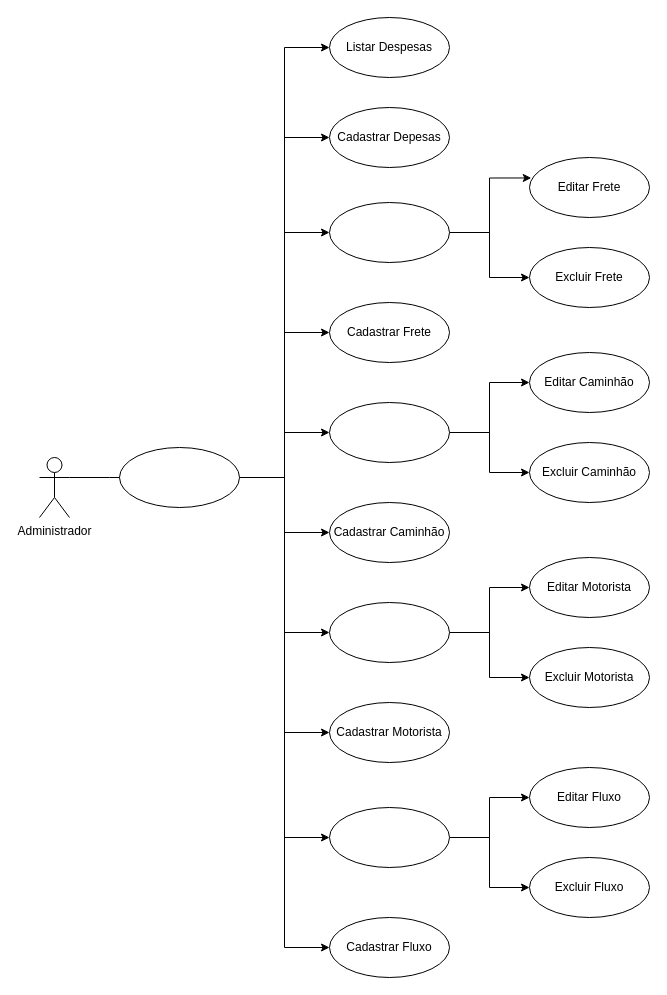
This 667x995 diagram has some shape labels left out. The shapes that lost their labels are listed below. From the top down, each one's box as (x1, y1, x2, y2) in pixels, then its label:
(328, 202, 450, 262): Listar Fretes
(328, 402, 450, 462): Listar Caminhões
(118, 446, 240, 508): Logar no Sistema
(328, 602, 450, 662): Listar Motoristas
(328, 806, 450, 868): Listar Fluxos
